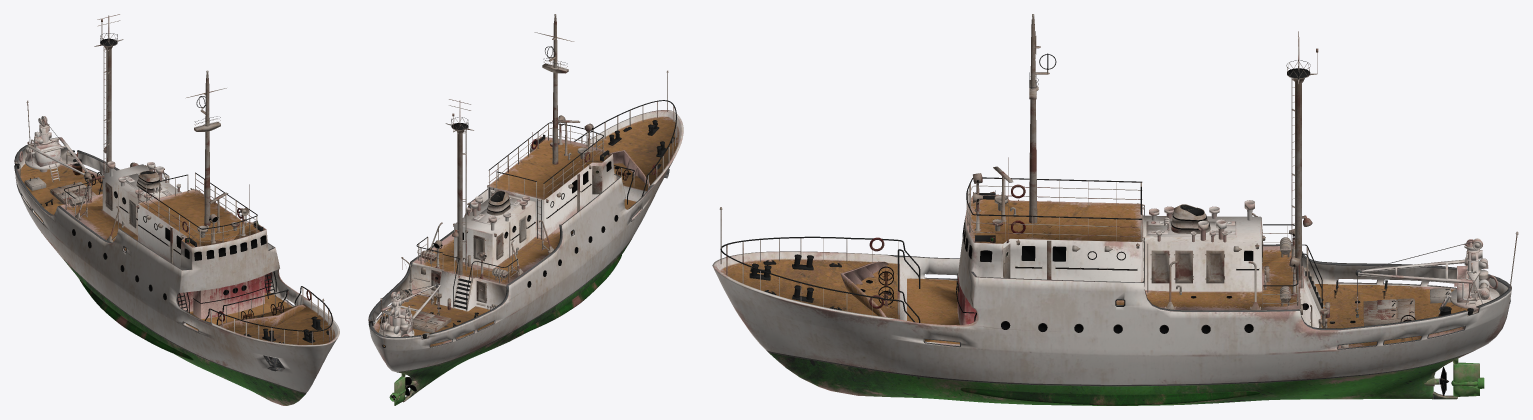
The model's file is Old_vessel.FBX.
The picture shows the model from 3 angles, left to right: view 1: azimuth 30°, elevation 25°; view 2: azimuth 150°, elevation 25°; view 3: azimuth 270°, elevation 25°; orthographic projection. The views are drawn at different scales.
Visible parts, largest first — view 1: mesh0.dat.desirefx.me_.obj, mesh1.dat.desirefx.me_.obj; view 2: mesh0.dat.desirefx.me_.obj, mesh1.dat.desirefx.me_.obj; view 3: mesh0.dat.desirefx.me_.obj, mesh1.dat.desirefx.me_.obj.
Part boxes in pixels (bbox=[...]): mesh0.dat.desirefx.me_.obj: bbox=[14, 116, 339, 405]; mesh1.dat.desirefx.me_.obj: bbox=[15, 14, 333, 360]; mesh0.dat.desirefx.me_.obj: bbox=[368, 110, 683, 405]; mesh1.dat.desirefx.me_.obj: bbox=[369, 14, 677, 347]; mesh0.dat.desirefx.me_.obj: bbox=[712, 194, 1511, 405]; mesh1.dat.desirefx.me_.obj: bbox=[719, 14, 1518, 405].
Size of the model in its own units: 1.18 by 2.9 by 5.51.
